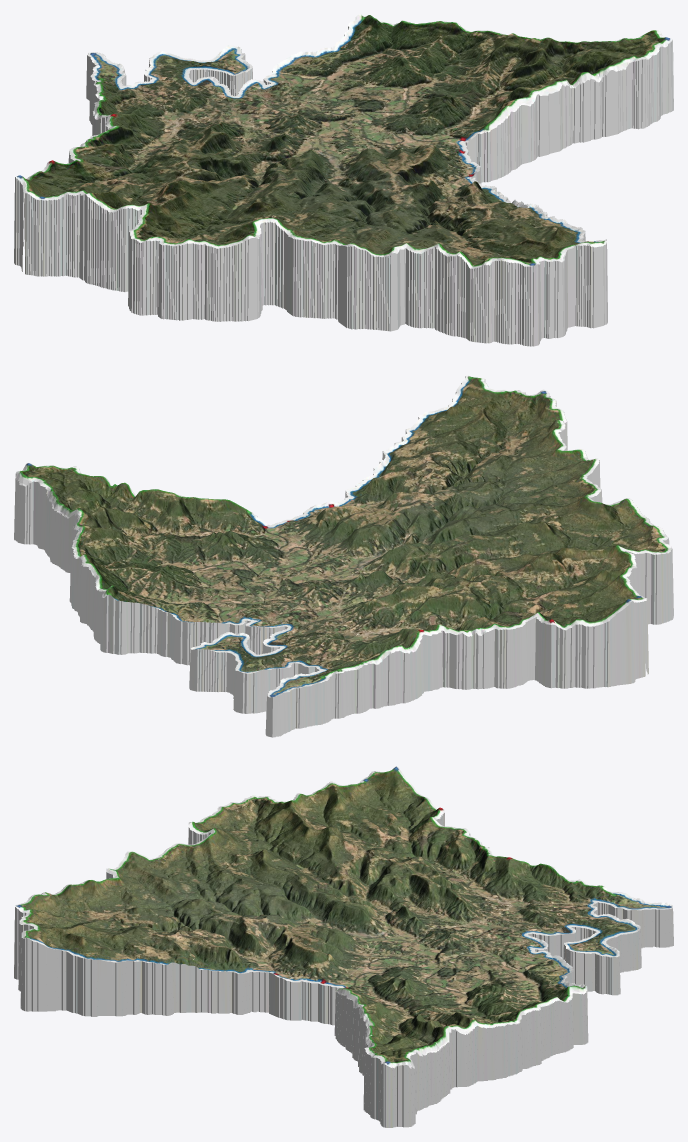
3 renders of one model, top to bottom at view 1: azimuth 30°, elevation 25°; view 2: azimuth 150°, elevation 25°; view 3: azimuth 270°, elevation 25°, orthographic. The views are drawn at different scales.
Bounding box in the file's own units: 1 × 0.1274 × 0.9771.
Materials: 1 (1 with a texture image).
